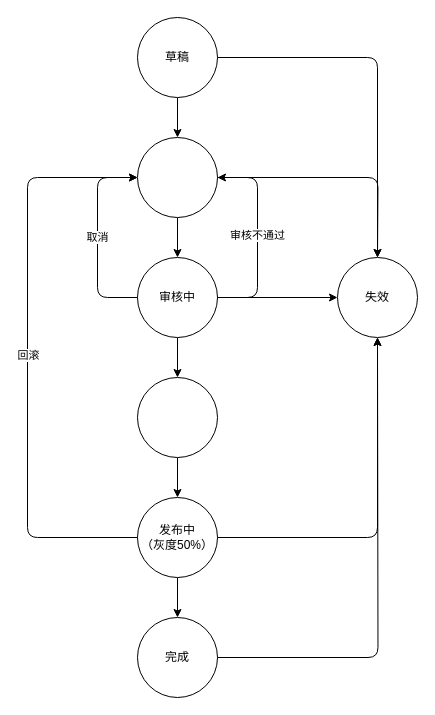
This 435x715 diagram has some shape labels left out. The box of each missing label's shape, as (x1, y1, x2, y2) in pixels:
已审核: (136, 376, 218, 458)
白名单 测试: (136, 136, 218, 218)
